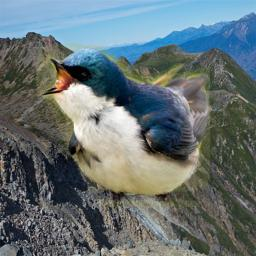Swallow: (36, 43, 210, 207)
